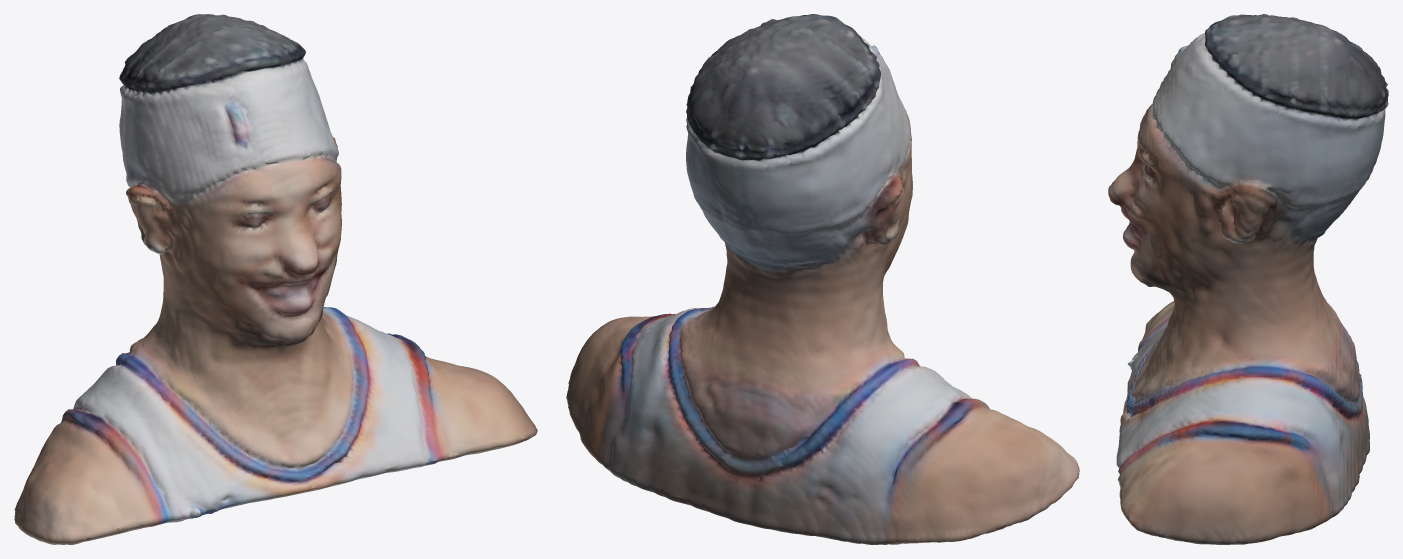
3 views of the same model, side by side, from view 1: azimuth 30°, elevation 25°; view 2: azimuth 150°, elevation 25°; view 3: azimuth 270°, elevation 25° (orthographic). The views are drawn at different scales.
Parts seen in each view (by area): view 1: geometry_0; view 2: geometry_0; view 3: geometry_0.
Part boxes in pixels (x1,y1,x2,y2): geometry_0: (14,14,537,544); geometry_0: (566,14,1079,544); geometry_0: (1108,14,1388,544).
Bounding box in the file's own units: 0.9809 × 0.8761 × 0.5174.
